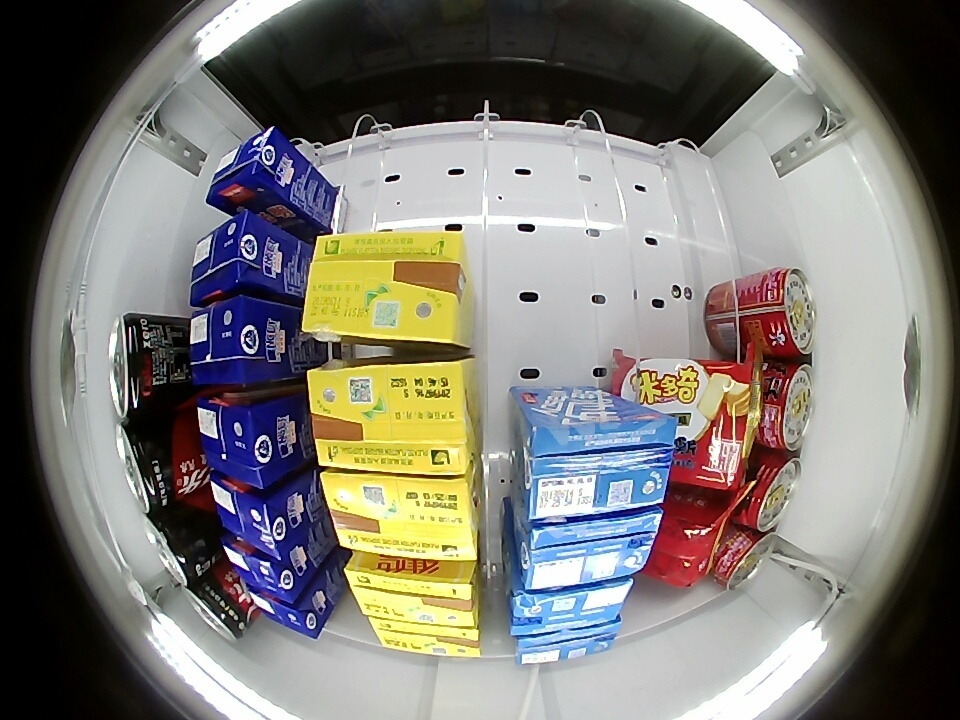bingqilinniunai: (198, 391, 301, 491), (190, 209, 286, 306), (189, 294, 290, 386), (211, 474, 312, 559), (205, 125, 296, 212), (221, 535, 314, 603), (245, 583, 334, 639)
kaomo_shaokao: (640, 360, 760, 489), (648, 488, 734, 588)
lingdukele: (115, 417, 189, 513), (108, 312, 173, 419), (142, 505, 212, 586), (182, 573, 251, 642)
wangzainiunai: (744, 268, 817, 358), (731, 451, 802, 533), (755, 361, 815, 452), (713, 526, 778, 590)
weitanai: (521, 414, 679, 521), (516, 506, 663, 591), (508, 576, 634, 638), (514, 616, 621, 666)
weitaningmeng: (300, 228, 469, 346), (307, 360, 476, 475), (321, 471, 479, 561), (343, 554, 480, 628), (369, 616, 483, 658)
